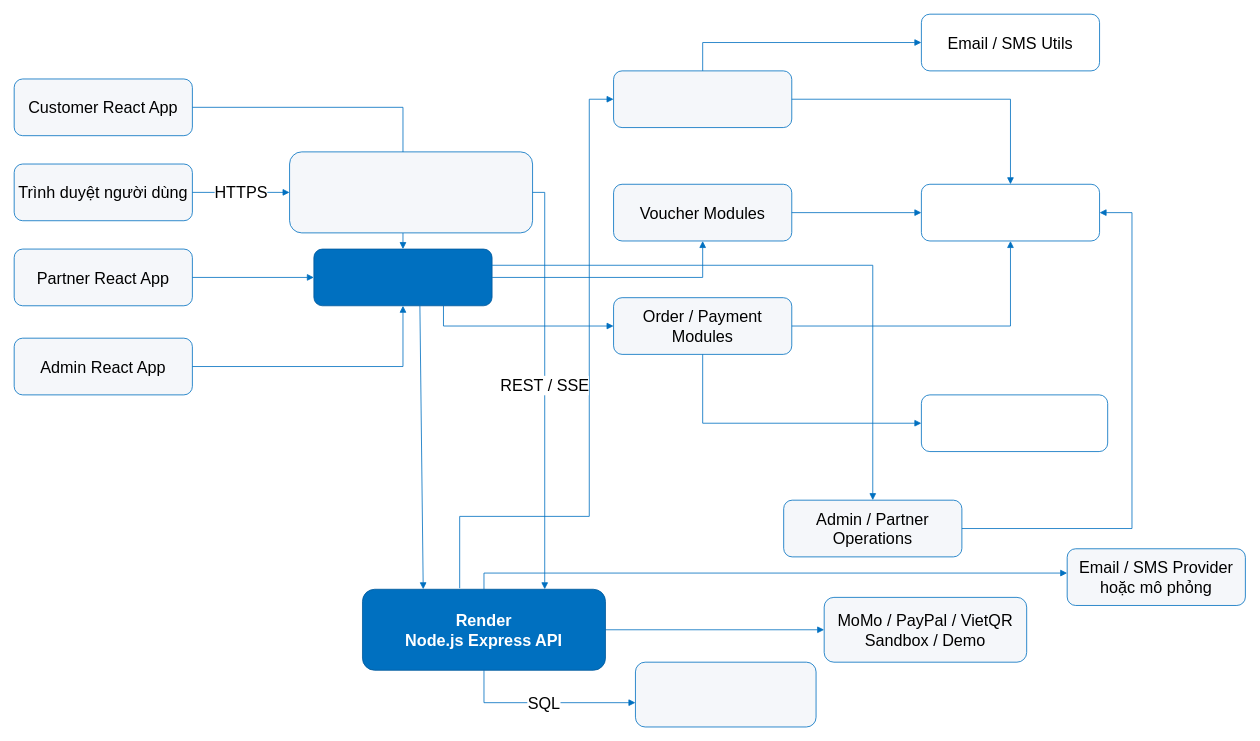
The diagram is 1260 pixels wide and 741 high, and some of its shapes have lost their labels. The centre of each missing label's shape, as x and y in pixels:
Auth Module: (702,99)
Express API Gateway: (402,277)
MoMo / PayPal / VietQR: (1014,423)
PostgreSQL: (1010,212)
PostgreSQL Database: (725,694)
Vercel / Static Hosting Customer, Partner, Admin: (411,192)
